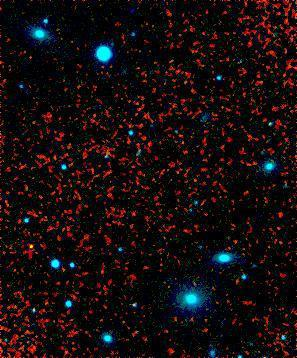star: (14, 230, 44, 260)
